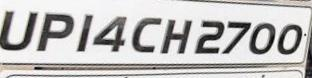0: (245, 20, 279, 59), (274, 19, 306, 59)
1: (73, 12, 98, 55)
2: (192, 16, 225, 58)
4: (90, 13, 130, 55)
7: (219, 18, 253, 56)
C: (128, 14, 164, 55)
H: (160, 16, 193, 58)
P: (33, 8, 76, 57)
U: (1, 4, 38, 55)
